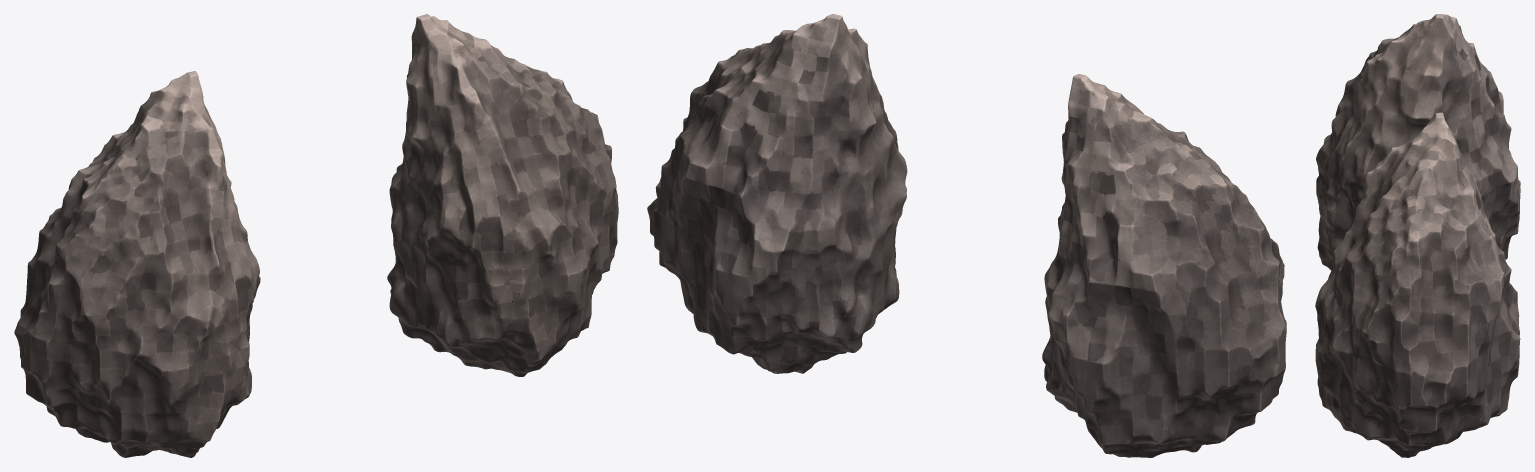
The model's file is stone_axe.glb.
3 views of the same model, side by side, from view 1: azimuth 30°, elevation 25°; view 2: azimuth 150°, elevation 25°; view 3: azimuth 270°, elevation 25° (orthographic). The views are drawn at different scales.
Bounding box in the file's own units: 1.9 × 1.07 × 0.6536.
1 material, 1 textured.
